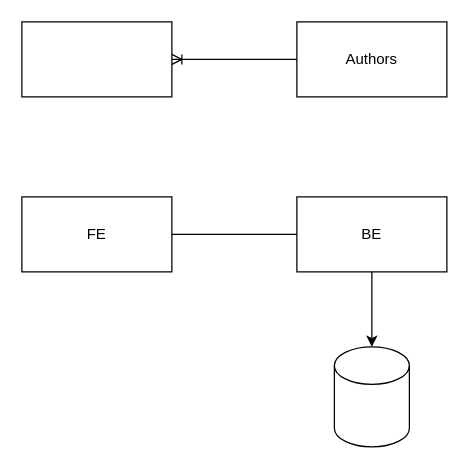
The diagram is 469 pixels wide and 469 high, and some of its shapes have lost their labels. Each missing label, with the centre of its shape:
Articles: the point at 96,59
SQLite: the point at 371,396
